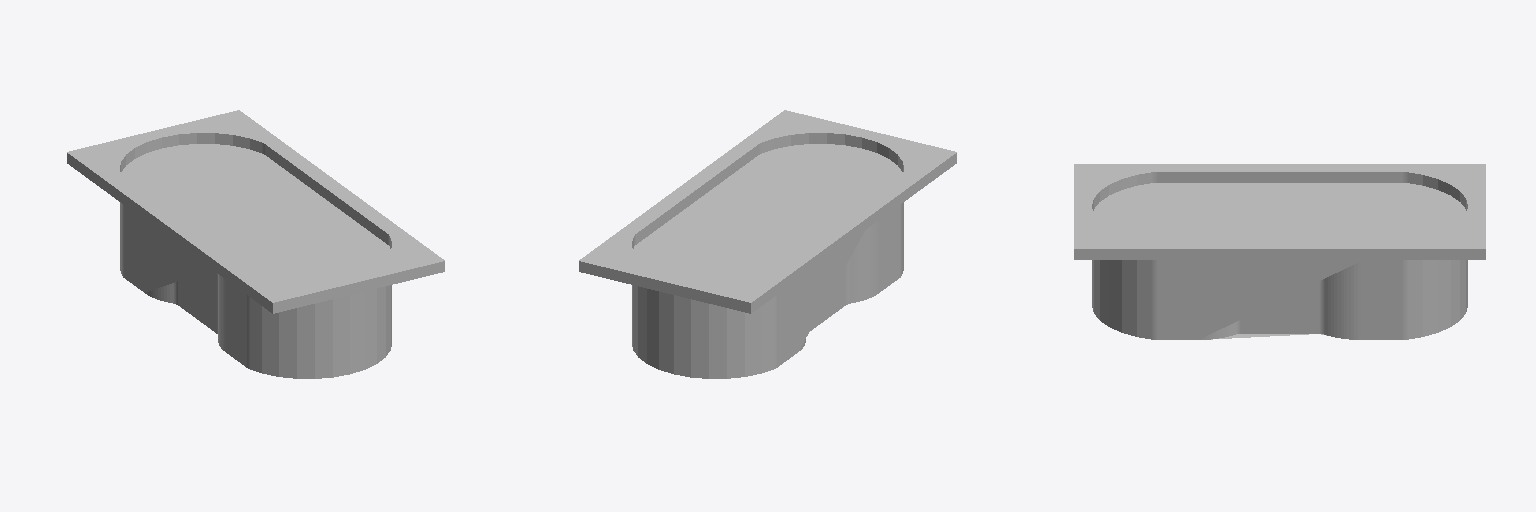
Rendered from DHARMA_BLANCA.obj.
The picture shows the model from 3 angles: view 1: azimuth 30°, elevation 25°; view 2: azimuth 150°, elevation 25°; view 3: azimuth 270°, elevation 25°; orthographic projection.
Visible parts, largest first — view 1: Mesh1 Group1 Model; view 2: Mesh1 Group1 Model; view 3: Mesh1 Group1 Model.
Boxes of the visible parts, x1=… form: Mesh1 Group1 Model: x1=67, y1=110, x2=444, y2=378; Mesh1 Group1 Model: x1=579, y1=110, x2=956, y2=378; Mesh1 Group1 Model: x1=1074, y1=164, x2=1485, y2=339.
Bounding box in the file's own units: 73 × 40 × 151.